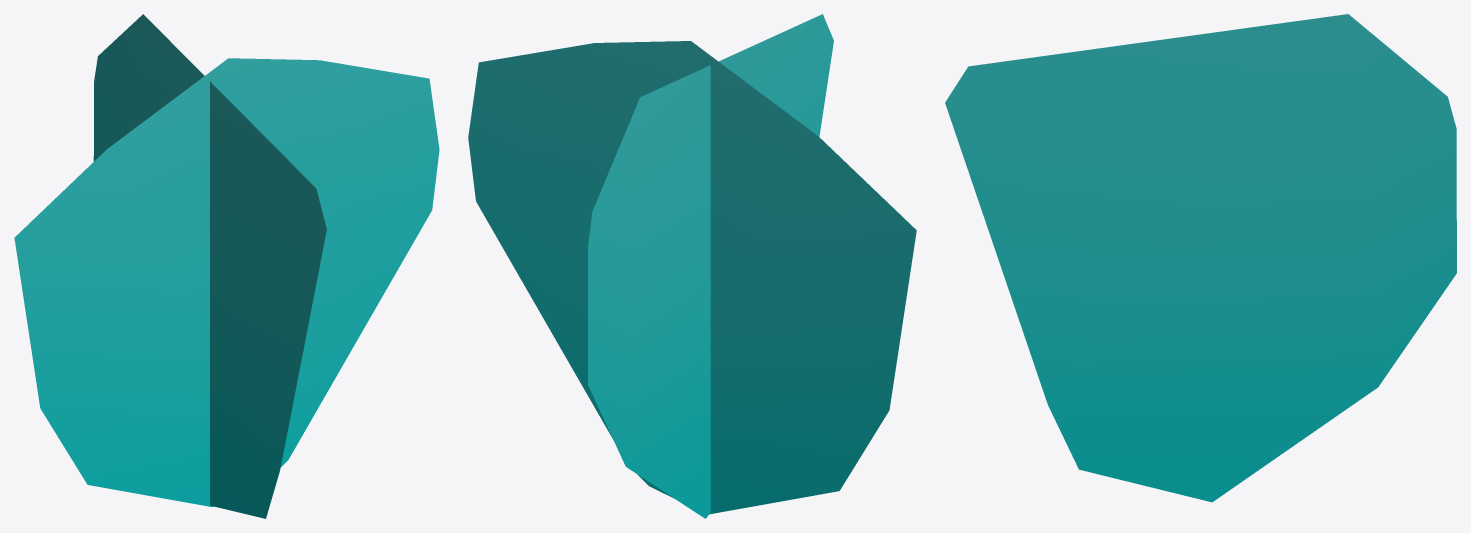
File: European_Spindle_wk1ncbxja_Mid_wk1ncbxja_VarJ_LOD3.fbx
The picture shows the model from 3 angles, left to right: view 1: azimuth 30°, elevation 25°; view 2: azimuth 150°, elevation 25°; view 3: azimuth 270°, elevation 25°; orthographic projection. The views are drawn at different scales.
Parts seen in each view (by area): view 1: _sk6y_VarJ_LOD4; view 2: _sk6y_VarJ_LOD4; view 3: _sk6y_VarJ_LOD4.
Boxes of the visible parts, <box> form: _sk6y_VarJ_LOD4: <box>14,14,439,518</box>; _sk6y_VarJ_LOD4: <box>468,14,916,518</box>; _sk6y_VarJ_LOD4: <box>945,14,1456,502</box>.
Bounding box in the file's own units: 157 × 158 × 150.
